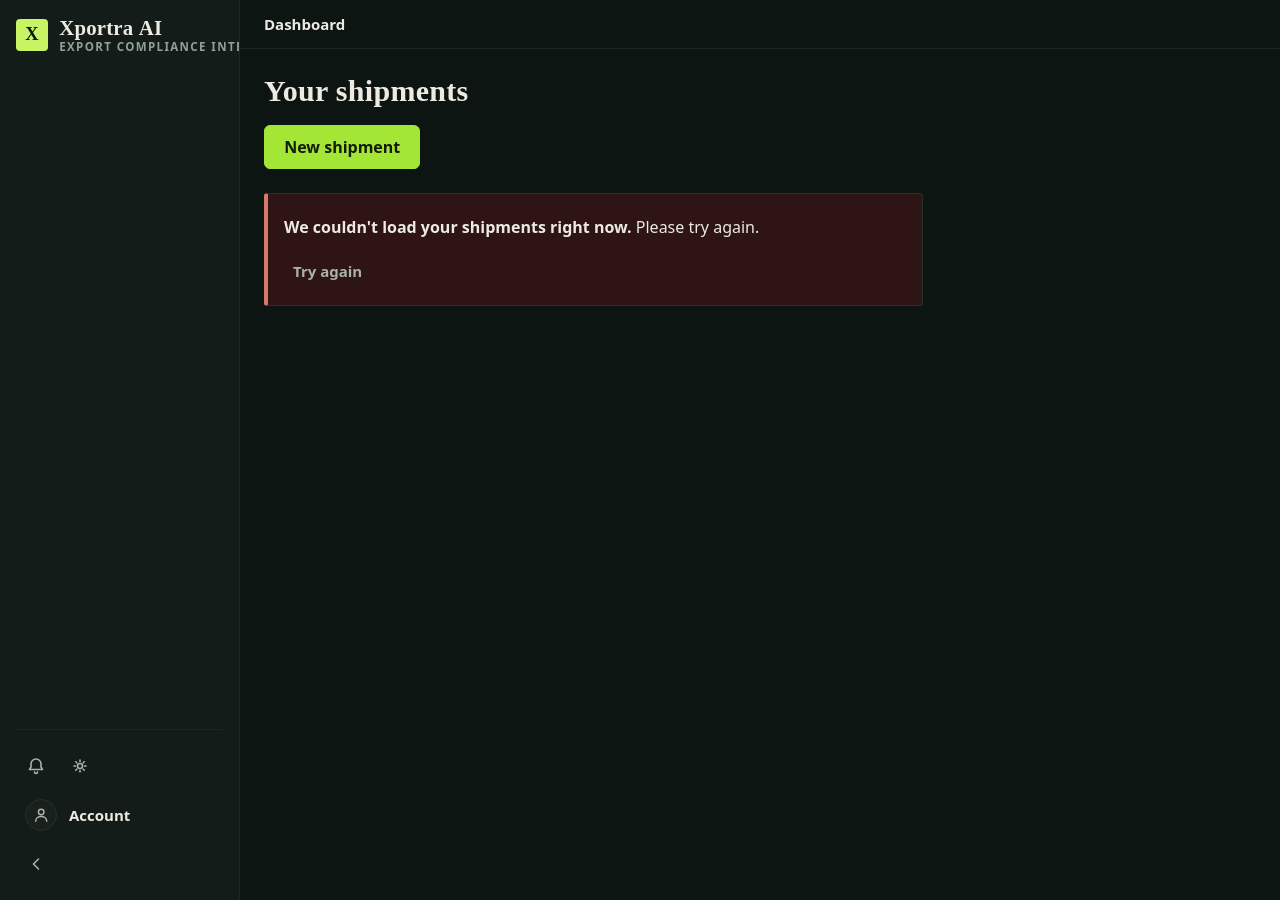
Scenario: empty, loading, and error states › explains load failures plainly with a working retry
The image size is (1280, 900).
Expected: the message shows "We couldn't load your shipments right now.", [284,216,632,238]
Click the button "Try again" at (328, 271), box [284,249,371,293]
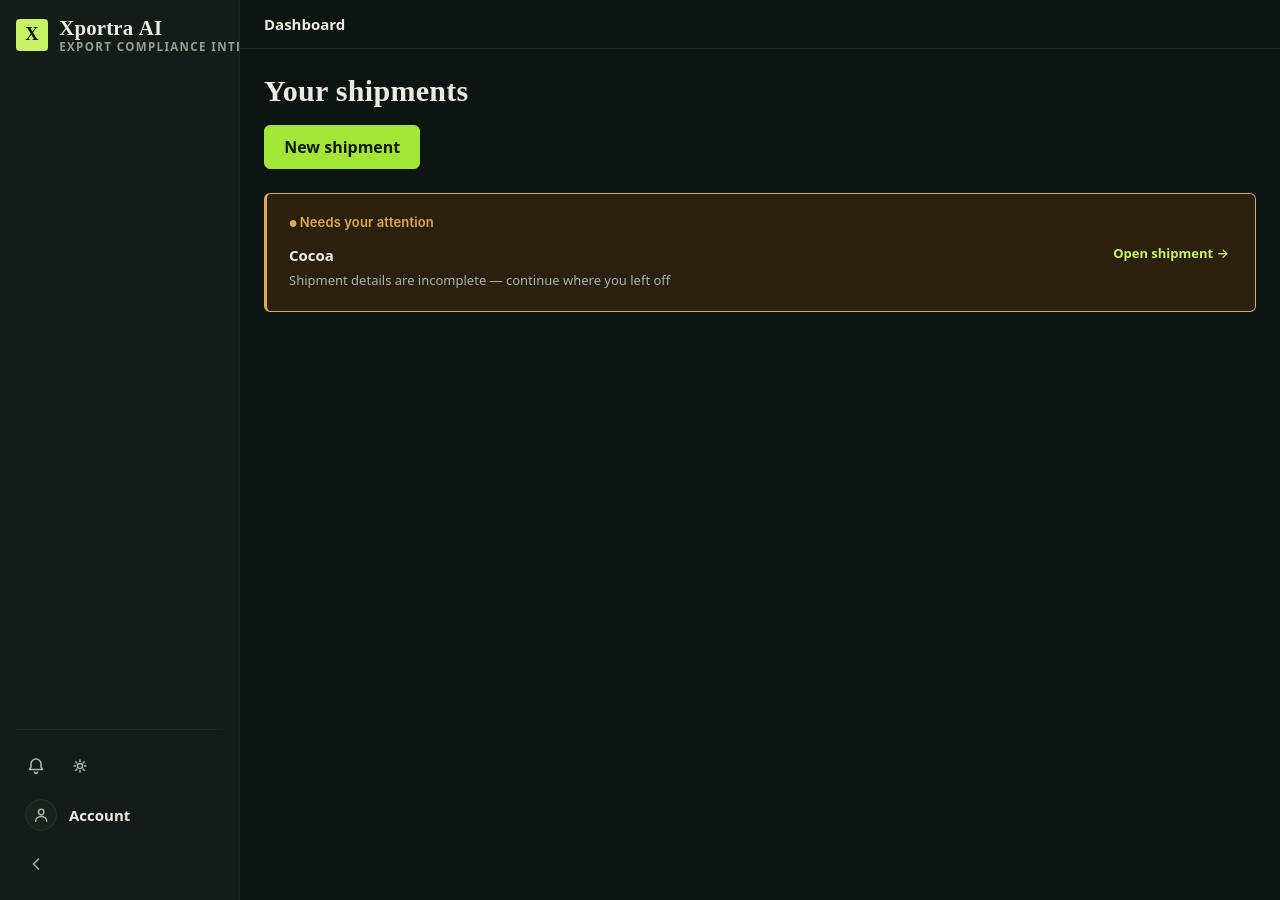
Now the heading "Needs your attention" is shown, box [300,214,434,230]
